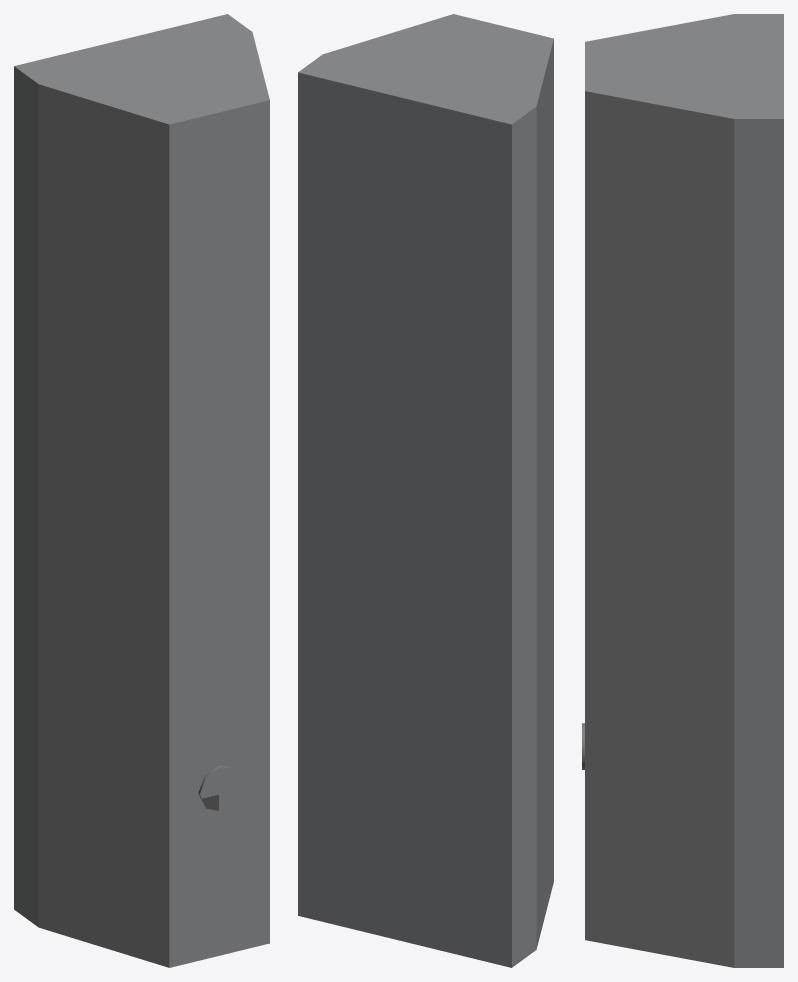
3 views of the same model, side by side, from view 1: azimuth 30°, elevation 25°; view 2: azimuth 150°, elevation 25°; view 3: azimuth 270°, elevation 25° (orthographic).
Bounding box in the file's own units: 0.2 × 0.754 × 0.1625.
